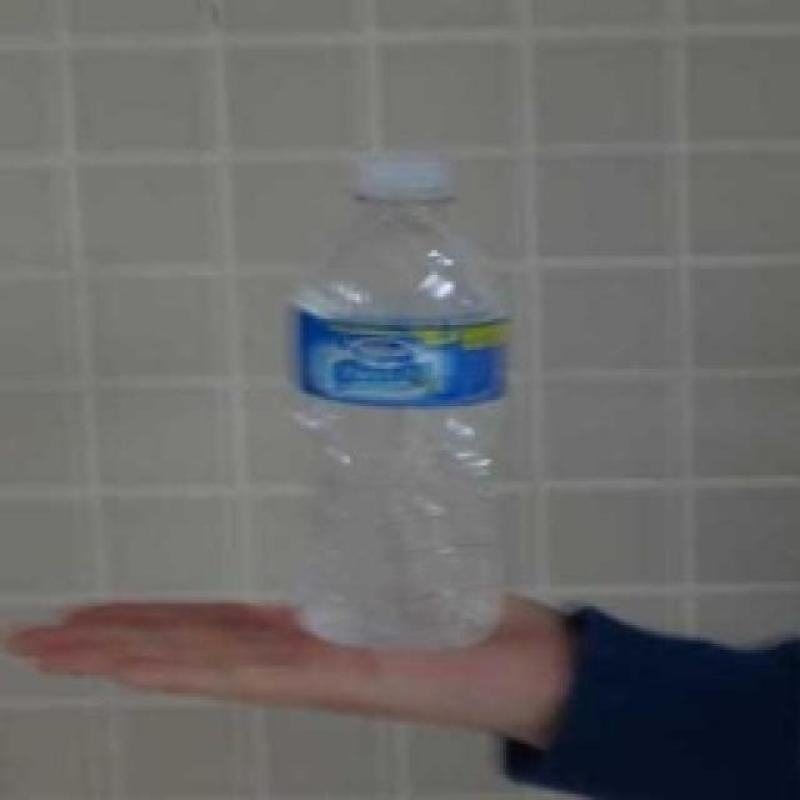botella: (288, 145, 512, 649)
